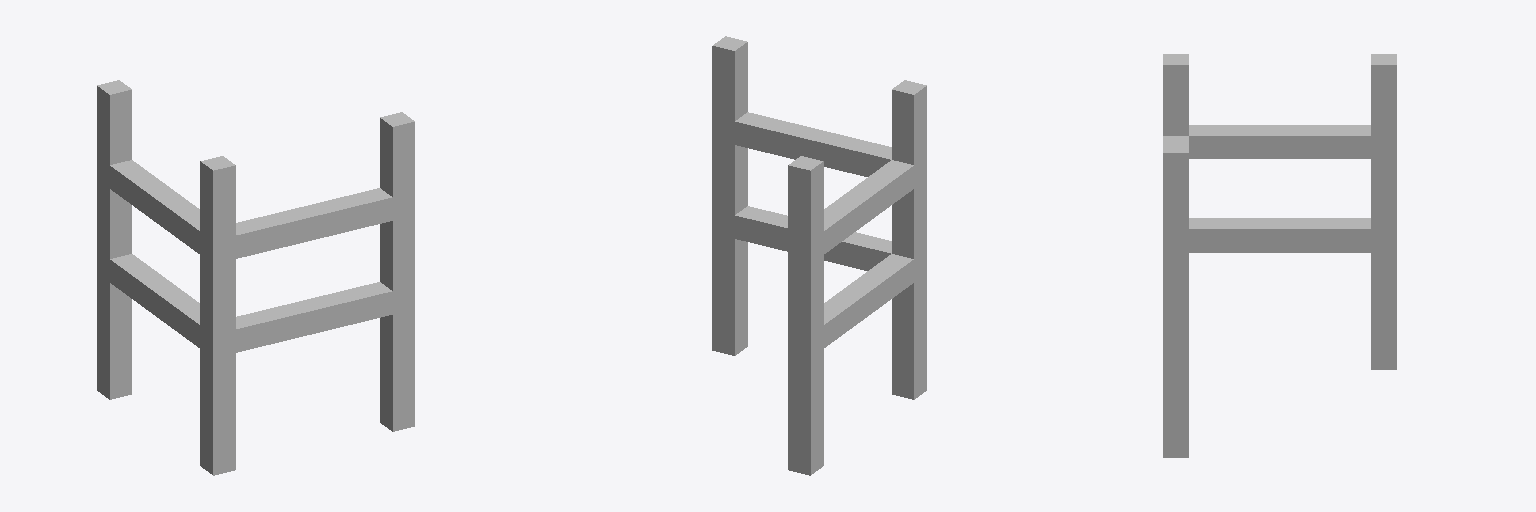
Rendered from edge fence.obj.
The picture shows the model from 3 angles: view 1: azimuth 30°, elevation 25°; view 2: azimuth 150°, elevation 25°; view 3: azimuth 270°, elevation 25°; orthographic projection.
Visible parts, largest first — view 1: edge fence; view 2: edge fence; view 3: edge fence.
Boxes of the visible parts, x1,y1,x2,y2 form: edge fence: [97, 80, 414, 475]; edge fence: [712, 36, 926, 475]; edge fence: [1163, 54, 1396, 457].
Bounding box in the file's own units: 9 × 13 × 9.